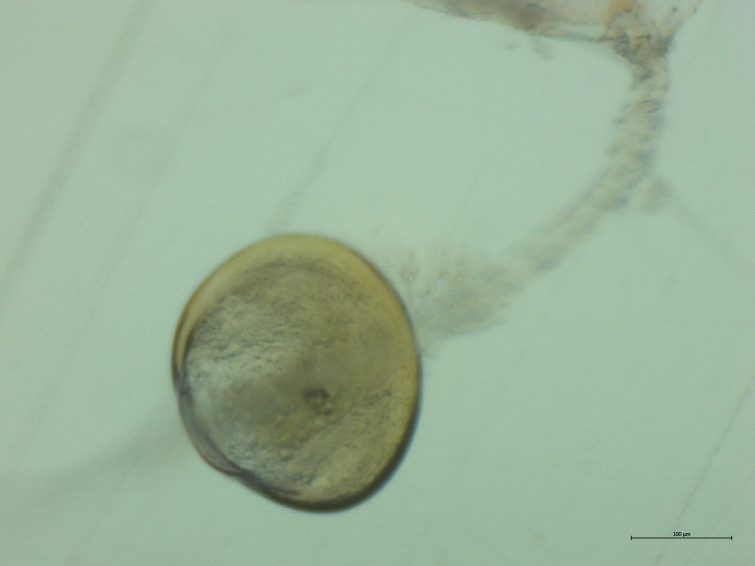oyster: (157, 220, 435, 523)
